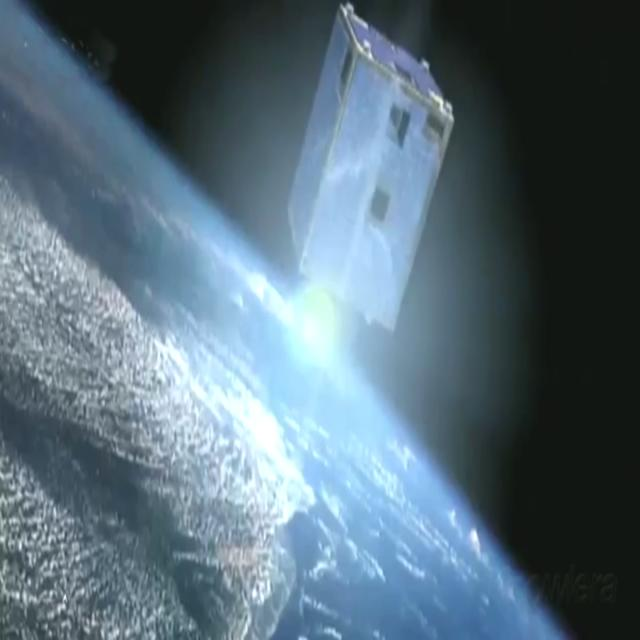satellite: (272, 0, 457, 364)
